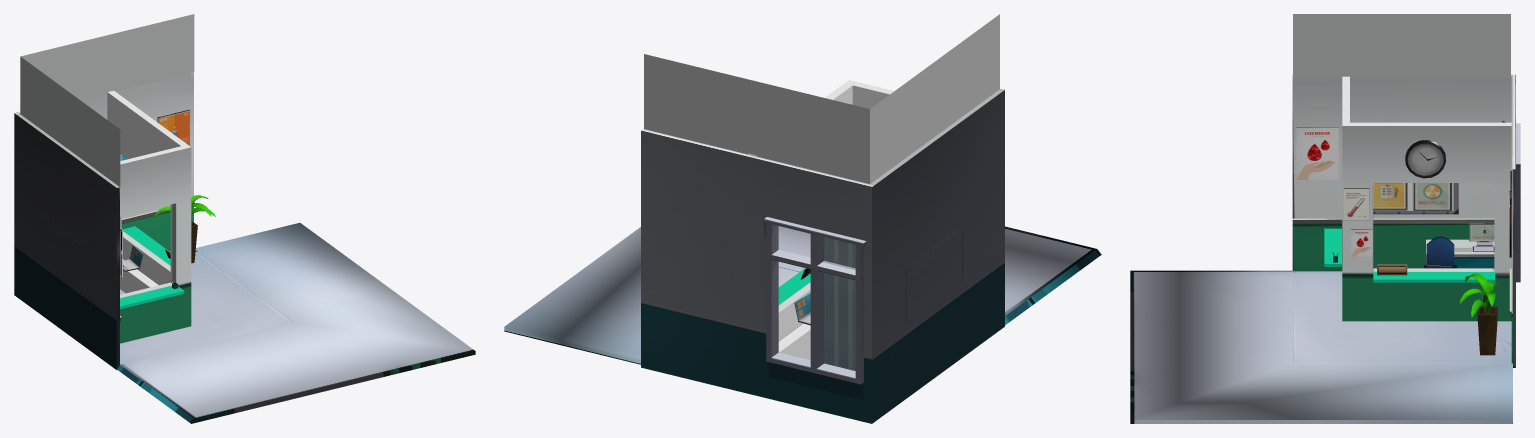
File: Tx_Interior_Work_Clinic.fbx
The picture shows the model from 3 angles, left to right: view 1: azimuth 30°, elevation 25°; view 2: azimuth 150°, elevation 25°; view 3: azimuth 270°, elevation 25°; orthographic projection. The views are drawn at different scales.
Parts seen in each view (by area): view 1: Tx_Interior_Work_Clinic; view 2: Tx_Interior_Work_Clinic; view 3: Tx_Interior_Work_Clinic.
Boxes of the visible parts, <box> form: Tx_Interior_Work_Clinic: <box>14,14,475,423</box>; Tx_Interior_Work_Clinic: <box>504,14,1101,423</box>; Tx_Interior_Work_Clinic: <box>1130,14,1520,423</box>.
Bounding box in the file's own units: 36.42 × 29.34 × 39.71.
